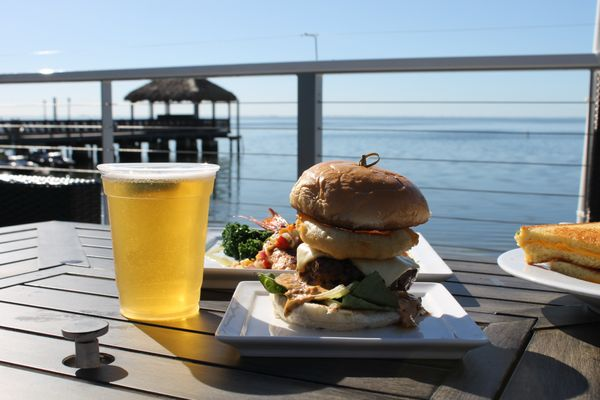curry: (220, 217, 274, 260)
pizza: (96, 160, 219, 323)
soup: (258, 154, 431, 331), (515, 221, 600, 284)
